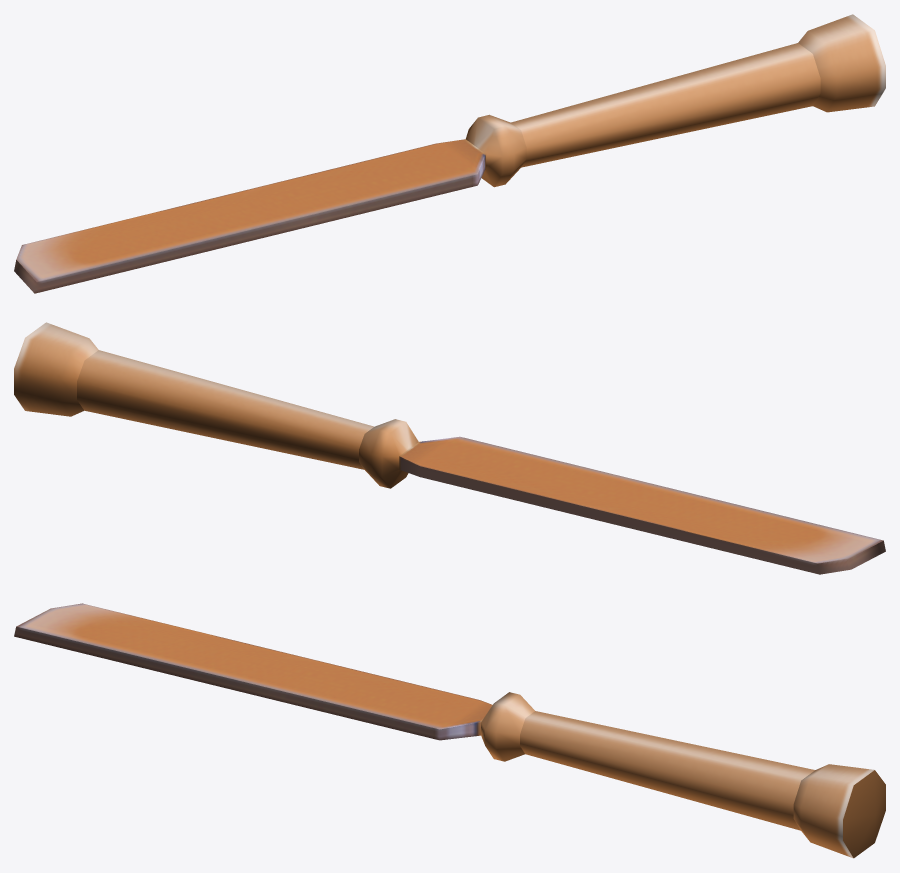
File: Cake_Knife_03.fbx
3 renders of one model, top to bottom at view 1: azimuth 30°, elevation 25°; view 2: azimuth 150°, elevation 25°; view 3: azimuth 330°, elevation 25°, orthographic. The views are drawn at different scales.
Parts seen in each view (by area): view 1: Cake_Knife_03; view 2: Cake_Knife_03; view 3: Cake_Knife_03.
Boxes of the visible parts, <box> form: Cake_Knife_03: <box>14,14,885,293</box>; Cake_Knife_03: <box>14,322,885,574</box>; Cake_Knife_03: <box>14,603,885,858</box>.
Bounding box in the file's own units: 121 × 10.16 × 12.2.
